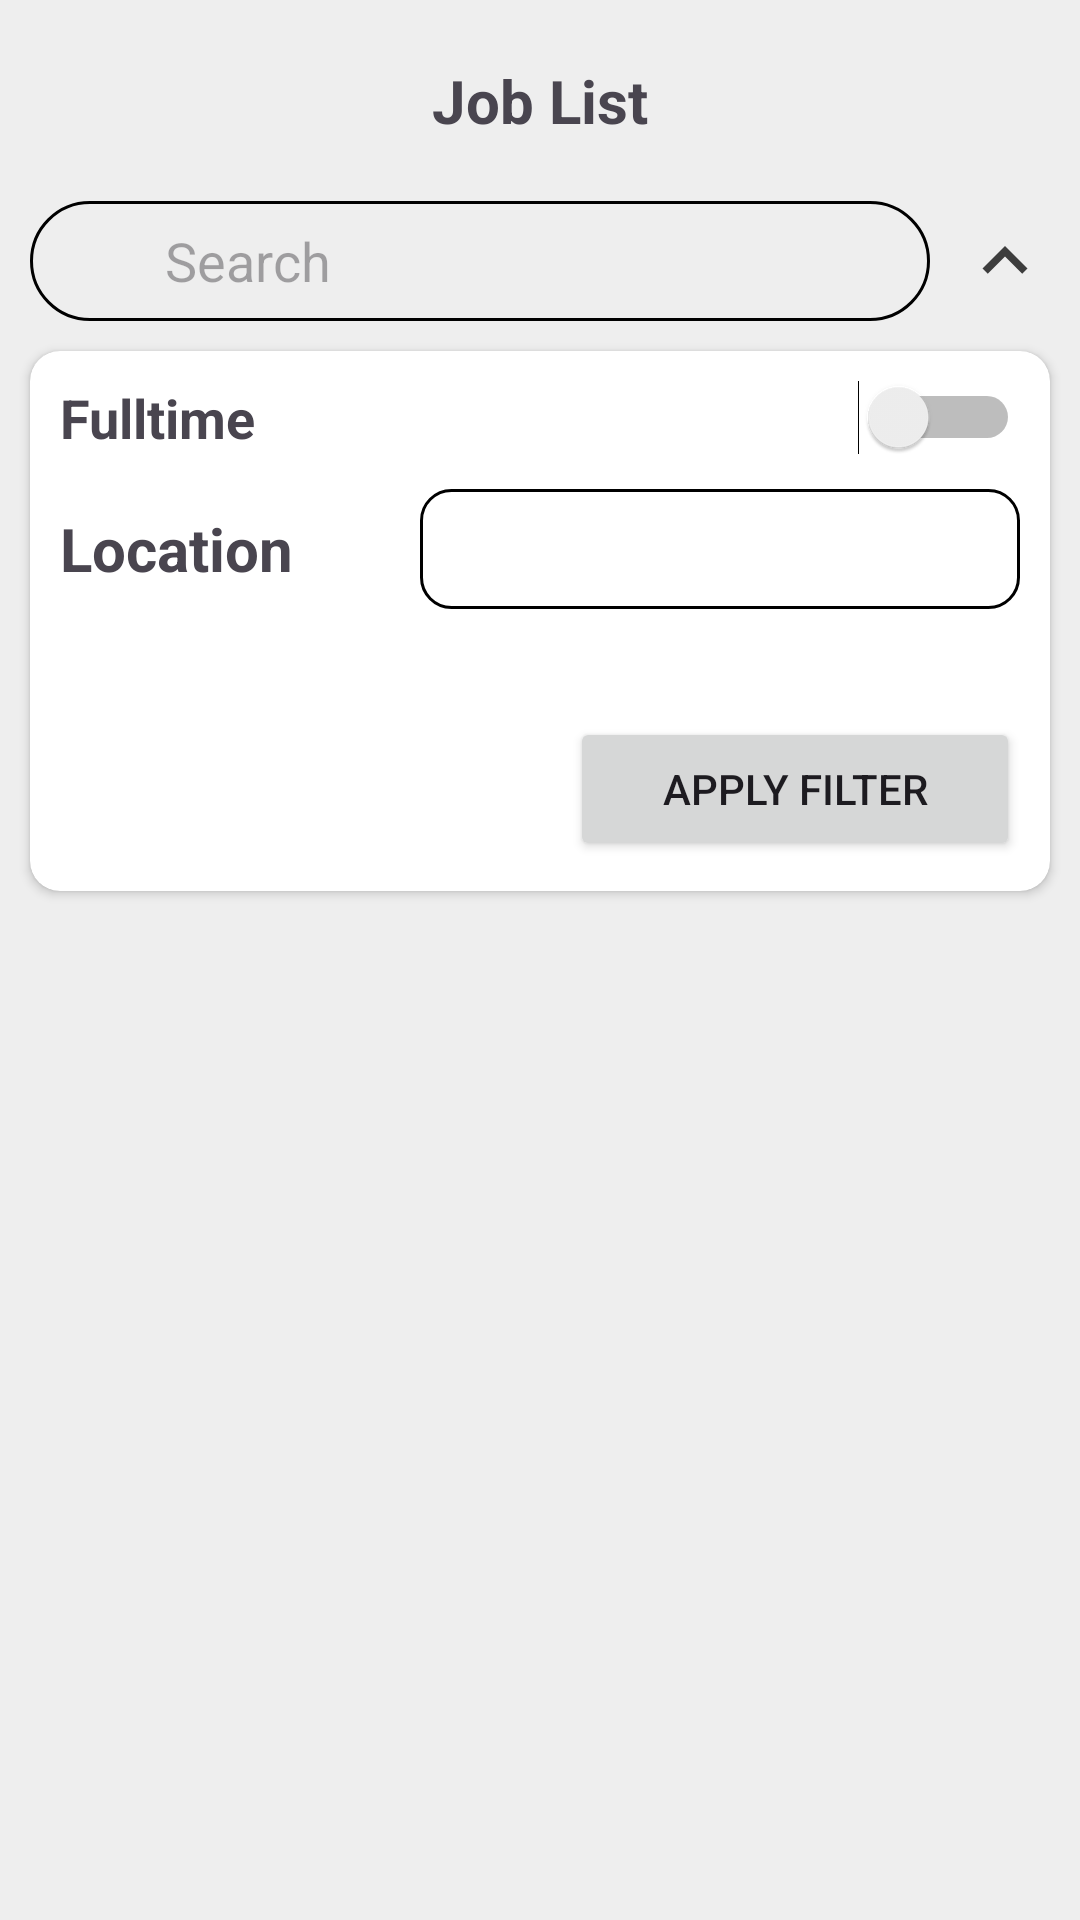

Where icons sit on this 1080px x 1920px app screen, as {"x1": x1, "y1": y1, "x2": x2, "y2": y2}:
arrow up: {"x1": 982, "y1": 246, "x2": 1028, "y2": 274}
